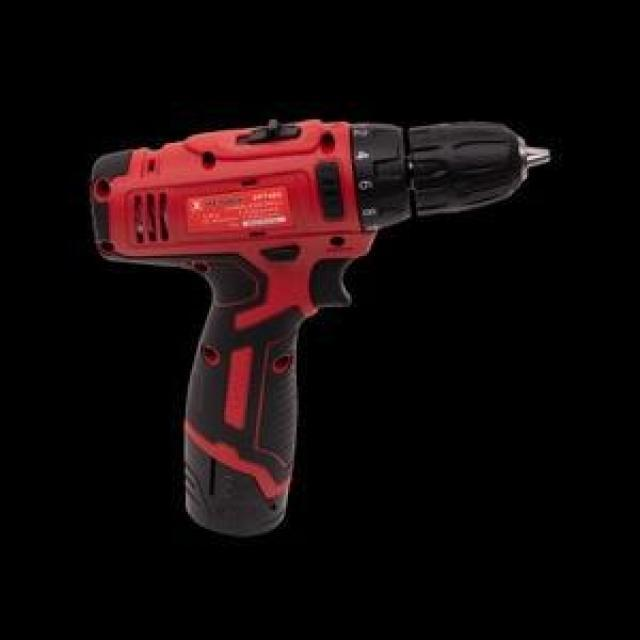drill: (87, 121, 550, 538)
